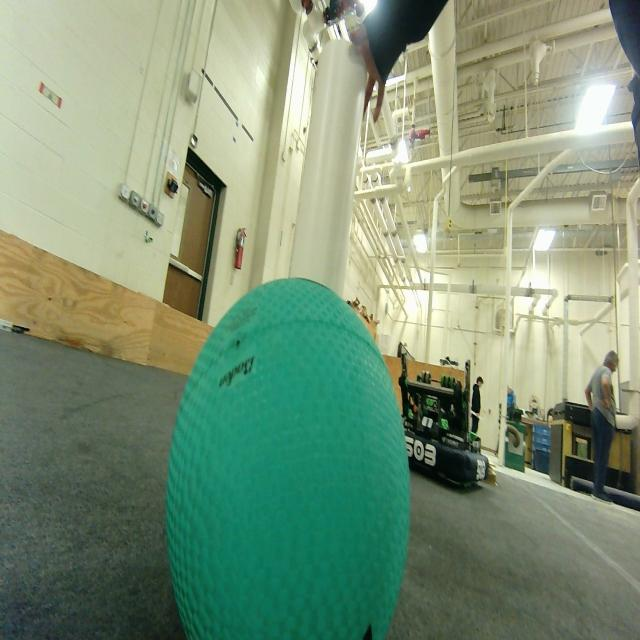algae: (161, 276, 412, 640)
coral: (290, 33, 371, 308)
